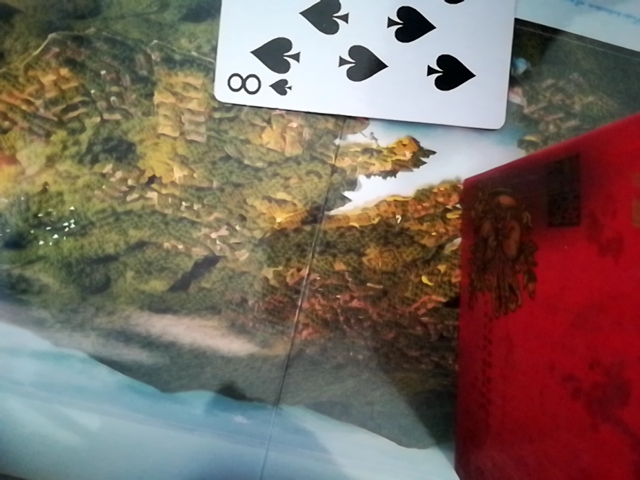ht 8: (200, 0, 514, 133)
